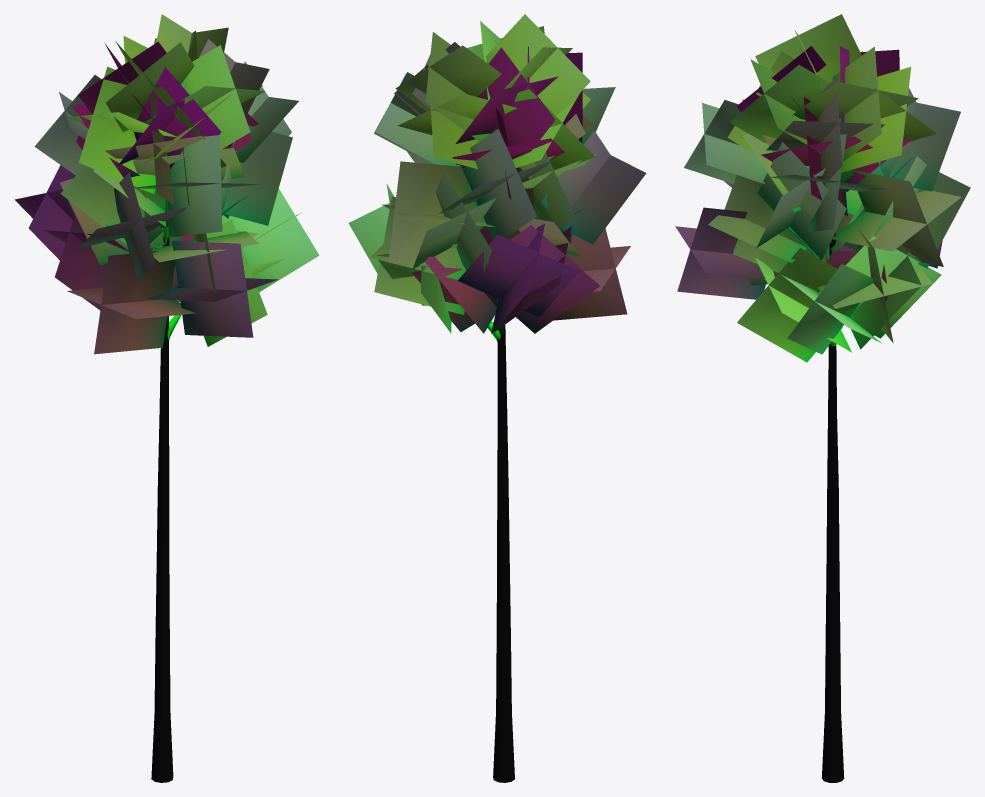
The model's file is URP_P5_Tree_4_LOD_2.fbx.
The picture shows the model from 3 angles, left to right: view 1: azimuth 30°, elevation 25°; view 2: azimuth 150°, elevation 25°; view 3: azimuth 270°, elevation 25°; orthographic projection.
Parts seen in each view (by area): view 1: Tree_4_LOD_2; view 2: Tree_4_LOD_2; view 3: Tree_4_LOD_2.
Boxes of the visible parts, x1,y1,x2,y2 form: Tree_4_LOD_2: [15, 14, 319, 782]; Tree_4_LOD_2: [348, 14, 646, 782]; Tree_4_LOD_2: [675, 14, 970, 782].
Bounding box in the file's own units: 249 × 706 × 253.
